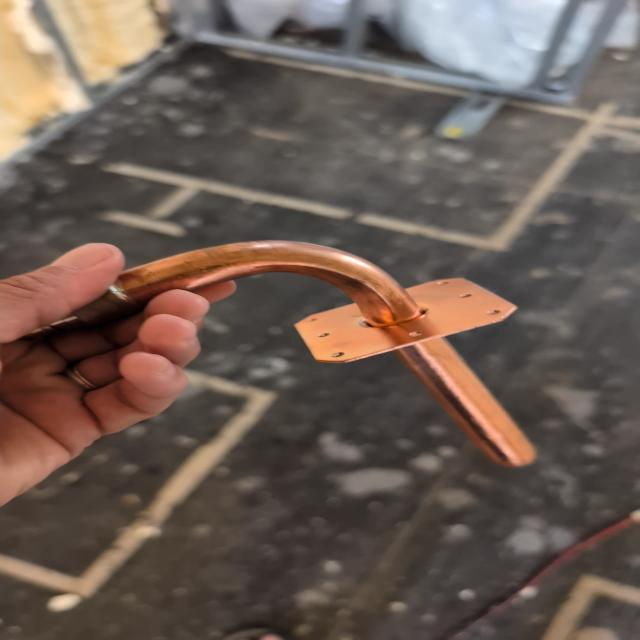wall_flange: (0, 237, 554, 488)
